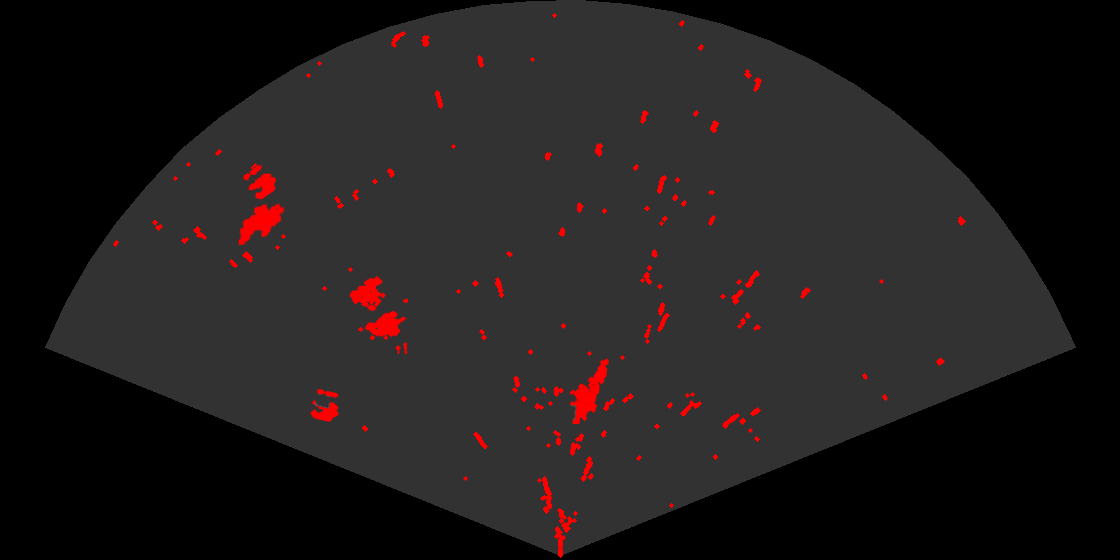AUV: (236, 202, 286, 247)
ball: (241, 164, 278, 201), (309, 387, 340, 424)
cage: (348, 274, 408, 354)
frogman: (568, 357, 610, 424)
